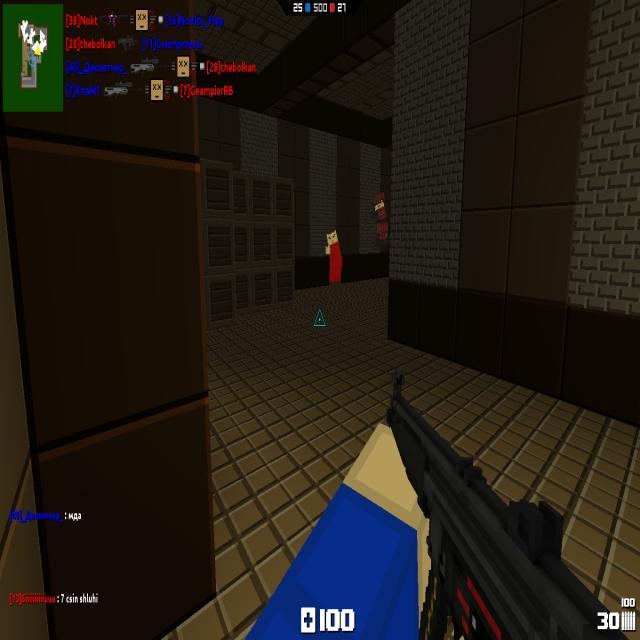enemy: (325, 228, 343, 286), (372, 192, 388, 248)
